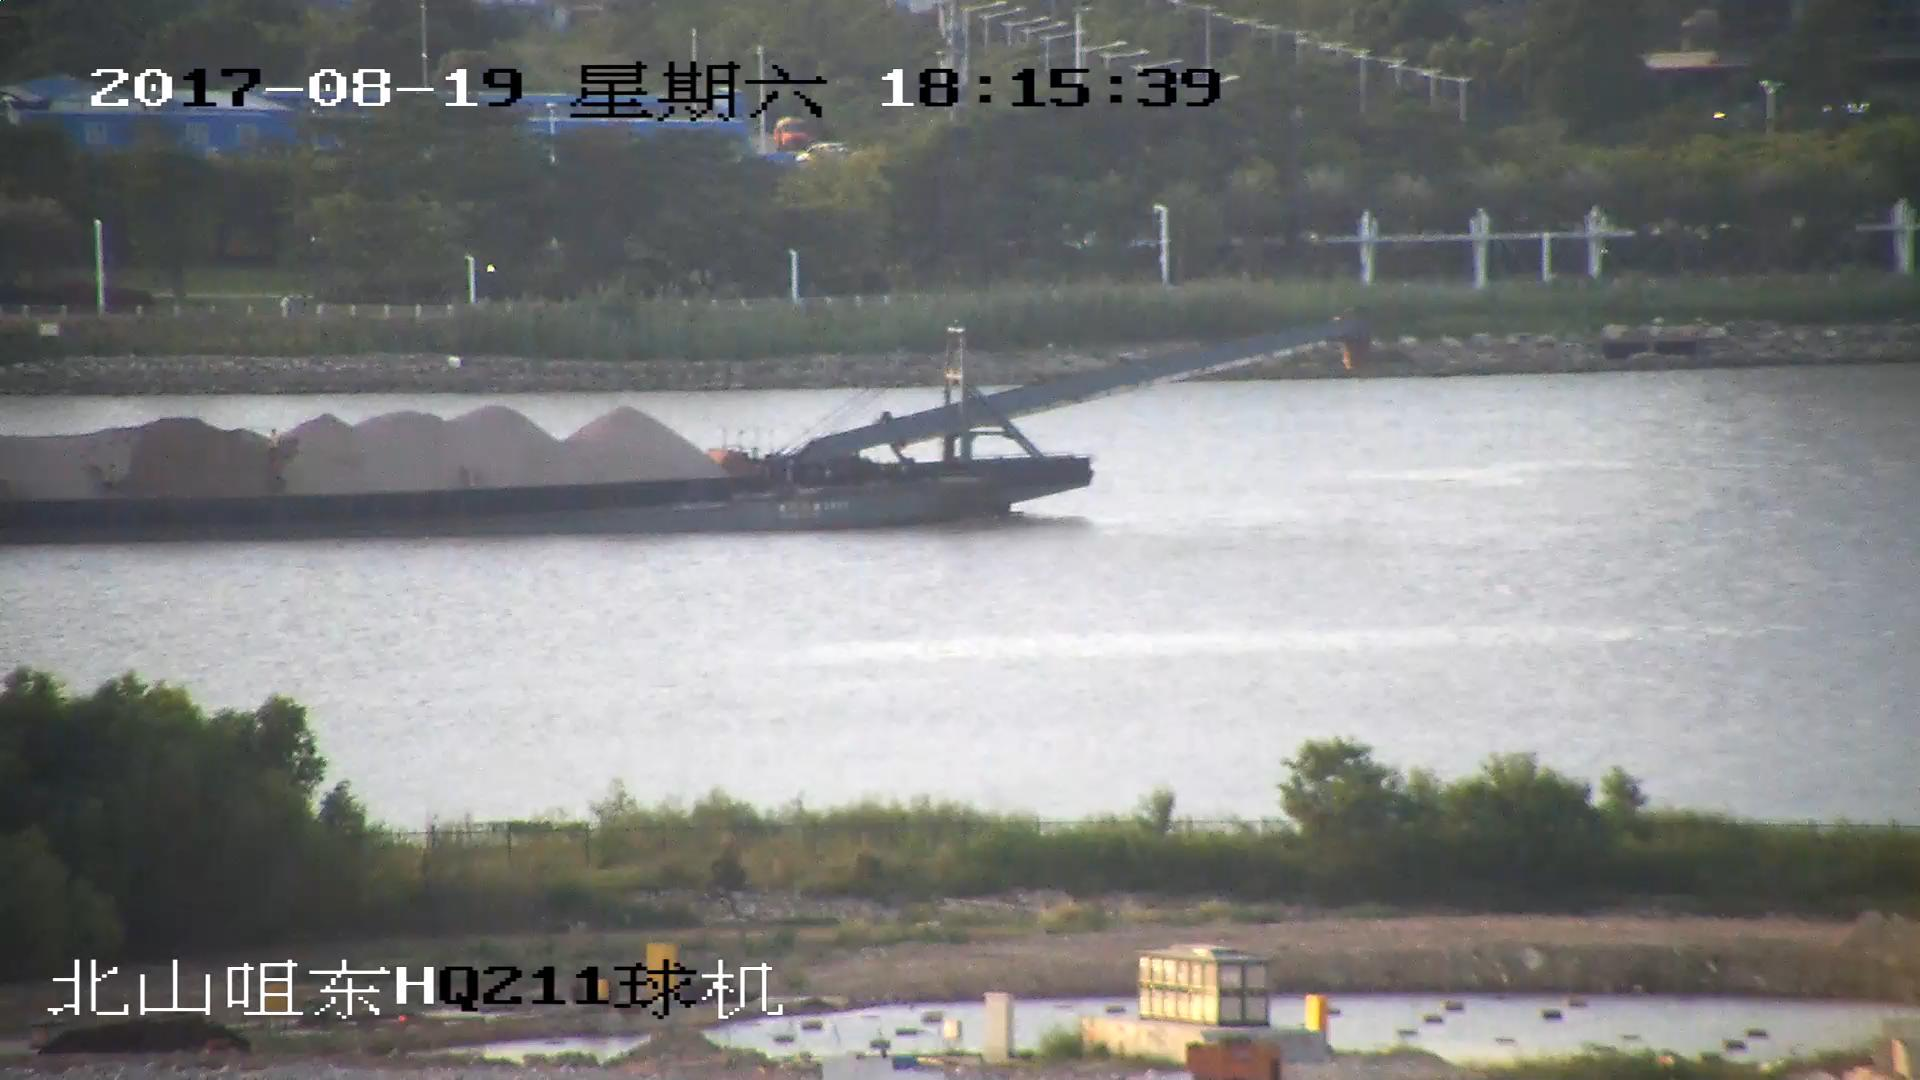Ship: (3, 310, 1364, 549)
